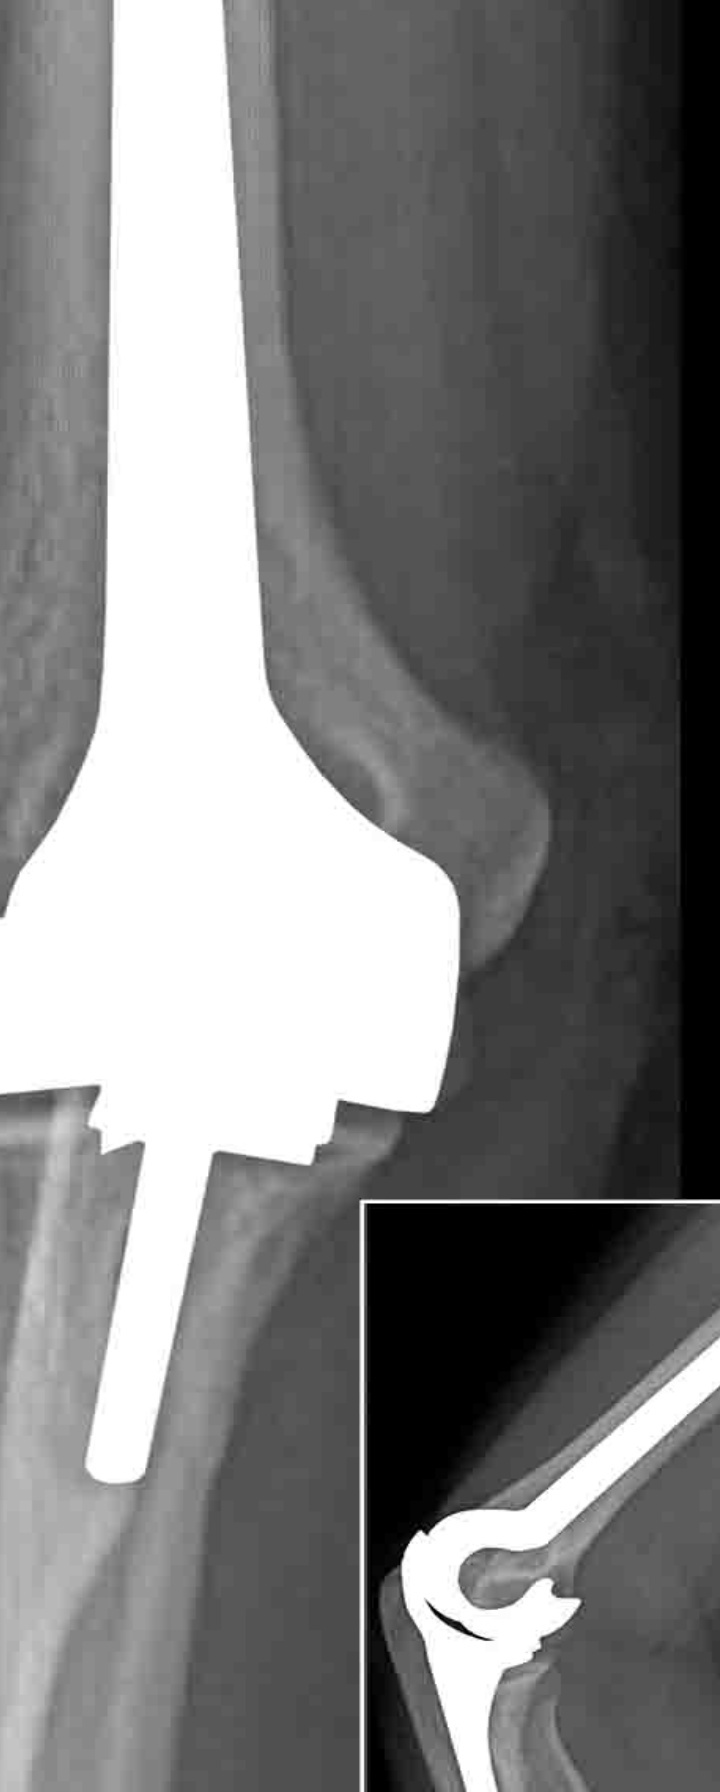Elbow - IBP - Biomet: (2, 2, 490, 1499), (386, 1261, 712, 1792)
